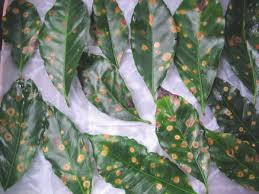ojo de gallo: (9, 88, 85, 187), (96, 140, 214, 187), (132, 8, 174, 79)
